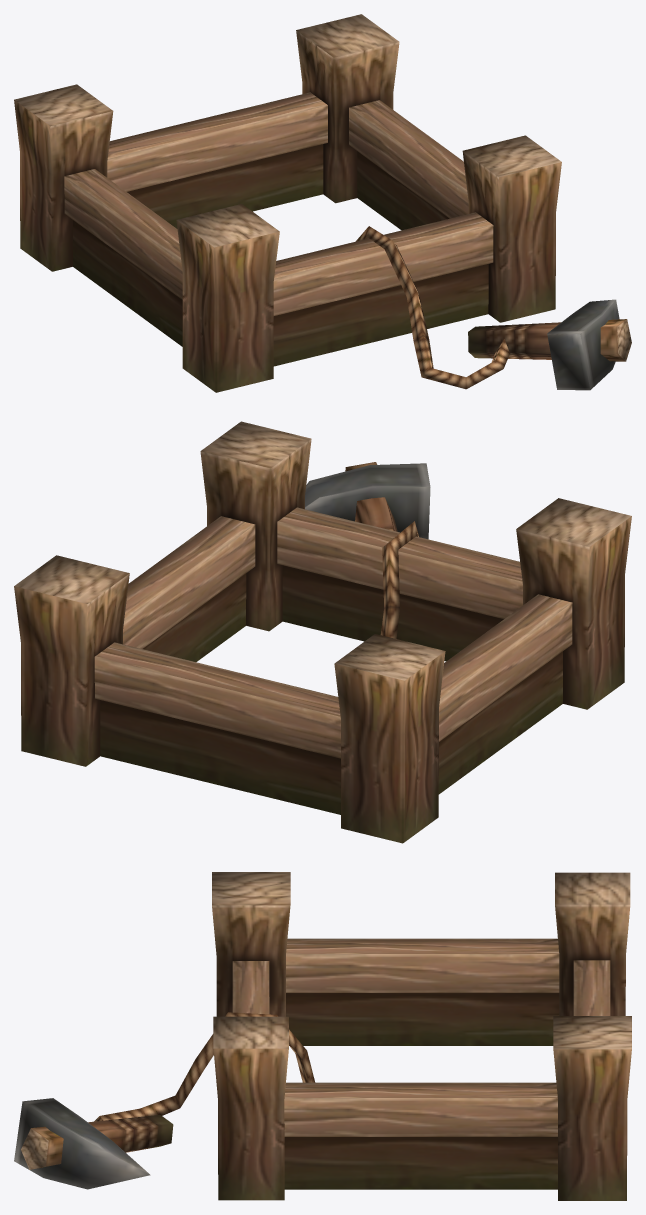
Rendered from FB5_mukuang_2.FBX.
3 renders of one model, top to bottom at view 1: azimuth 30°, elevation 25°; view 2: azimuth 150°, elevation 25°; view 3: azimuth 270°, elevation 25°, orthographic. The views are drawn at different scales.
Visible parts, largest first — view 1: FB5_mukuang_2; view 2: FB5_mukuang_2; view 3: FB5_mukuang_2.
Part boxes in pixels (x1,y1,x2,y2): FB5_mukuang_2: (14, 14, 631, 392); FB5_mukuang_2: (14, 421, 631, 843); FB5_mukuang_2: (14, 872, 631, 1200).
Bounding box in the file's own units: 31172 × 13023 × 45756.
Materials: 1 (1 with a texture image).
